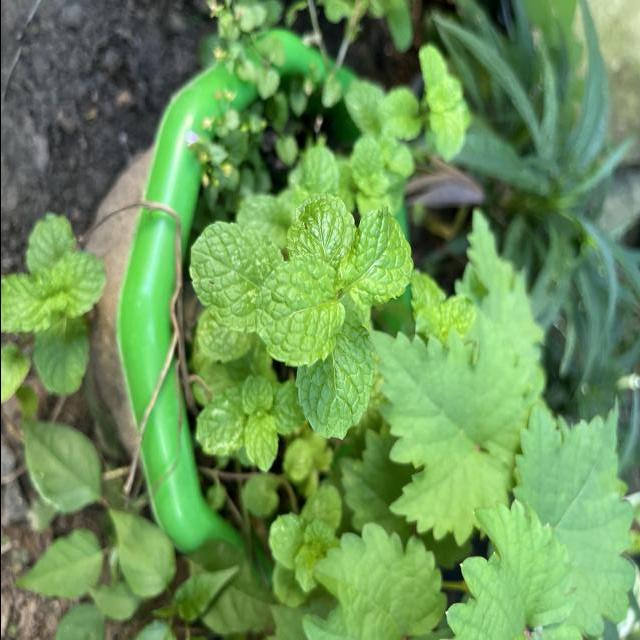Mentha spicata: (188, 220, 282, 334), (252, 254, 345, 369), (294, 315, 376, 442), (344, 204, 414, 310)
